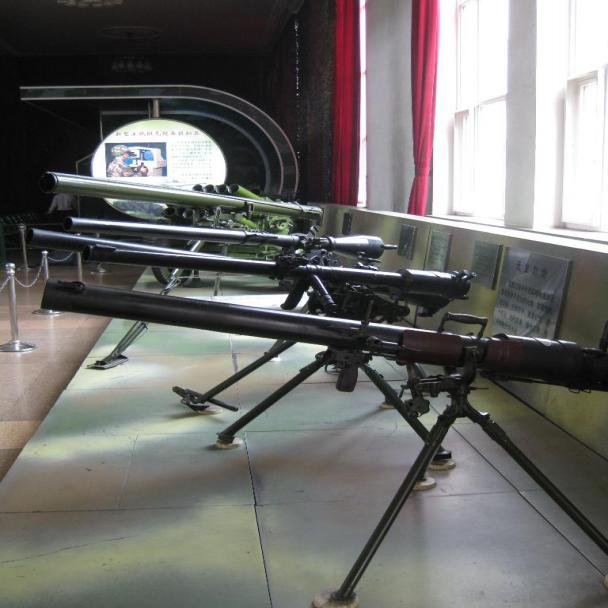Gun: (35, 270, 607, 409), (28, 223, 487, 324), (40, 148, 366, 234), (25, 195, 417, 266)
